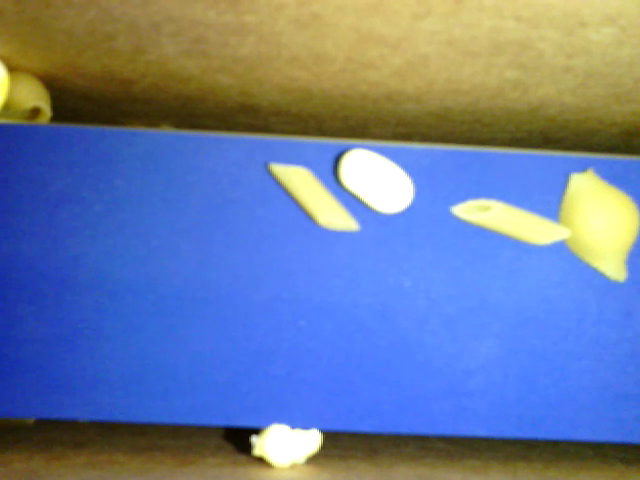penne: (266, 161, 364, 233), (446, 195, 572, 248)
shell: (555, 168, 637, 285), (3, 69, 57, 129)
